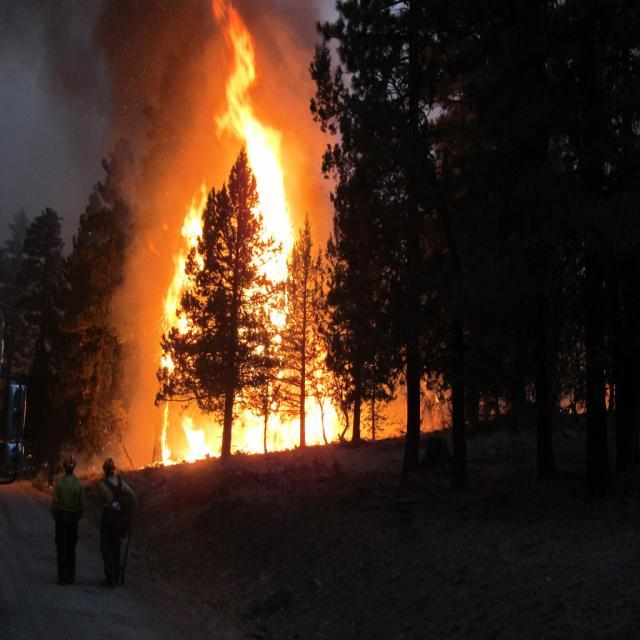Fire: (225, 10, 270, 134), (254, 140, 294, 265), (232, 400, 336, 445), (186, 420, 206, 460)
